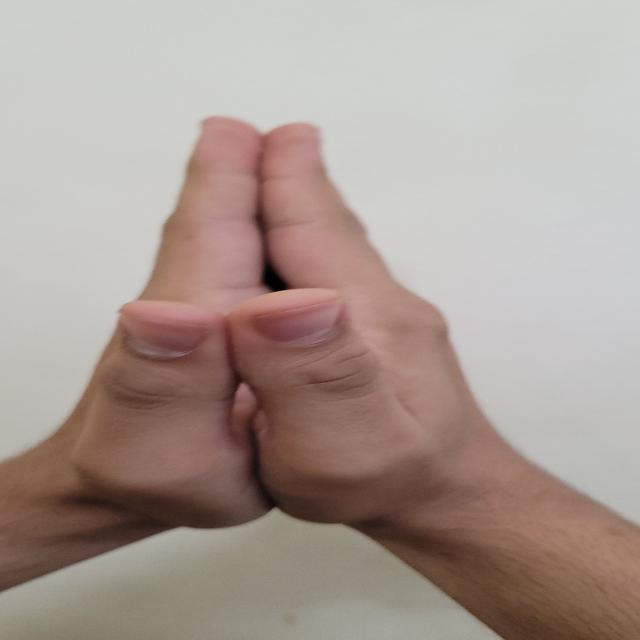Thank You: (62, 95, 572, 640)
